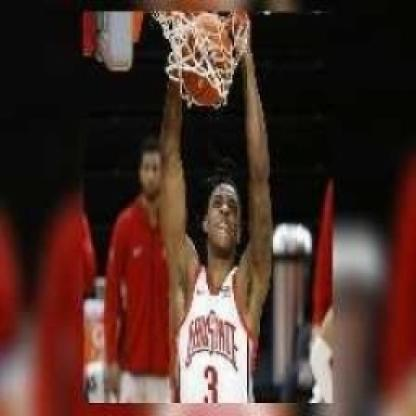basketball: (179, 12, 239, 110)
